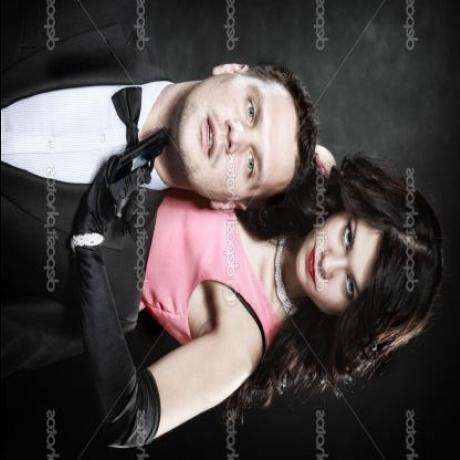1: (107, 198, 442, 426), (0, 1, 314, 227)
weapon: (86, 126, 172, 215)
